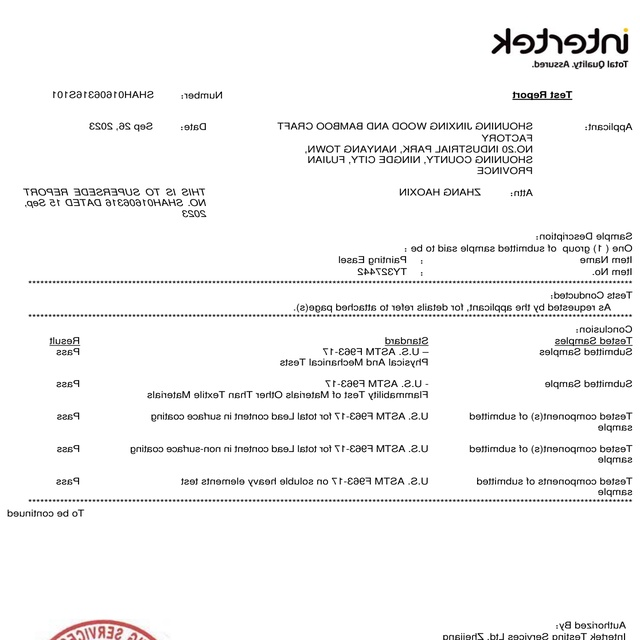intertek: (491, 26, 631, 58)
